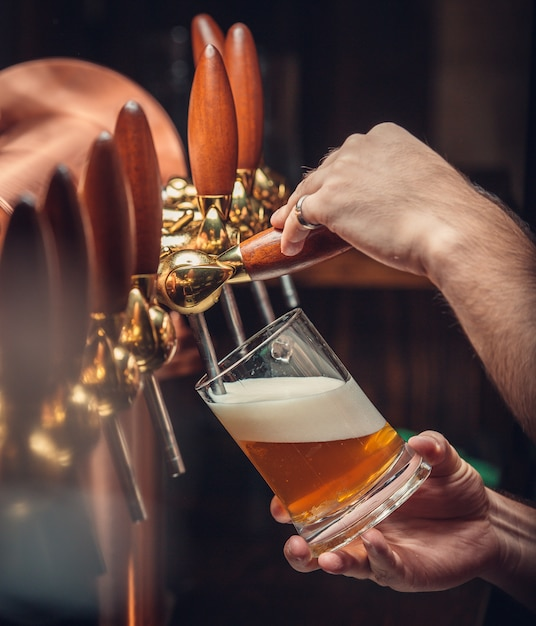alcohol: (192, 310, 432, 557)
